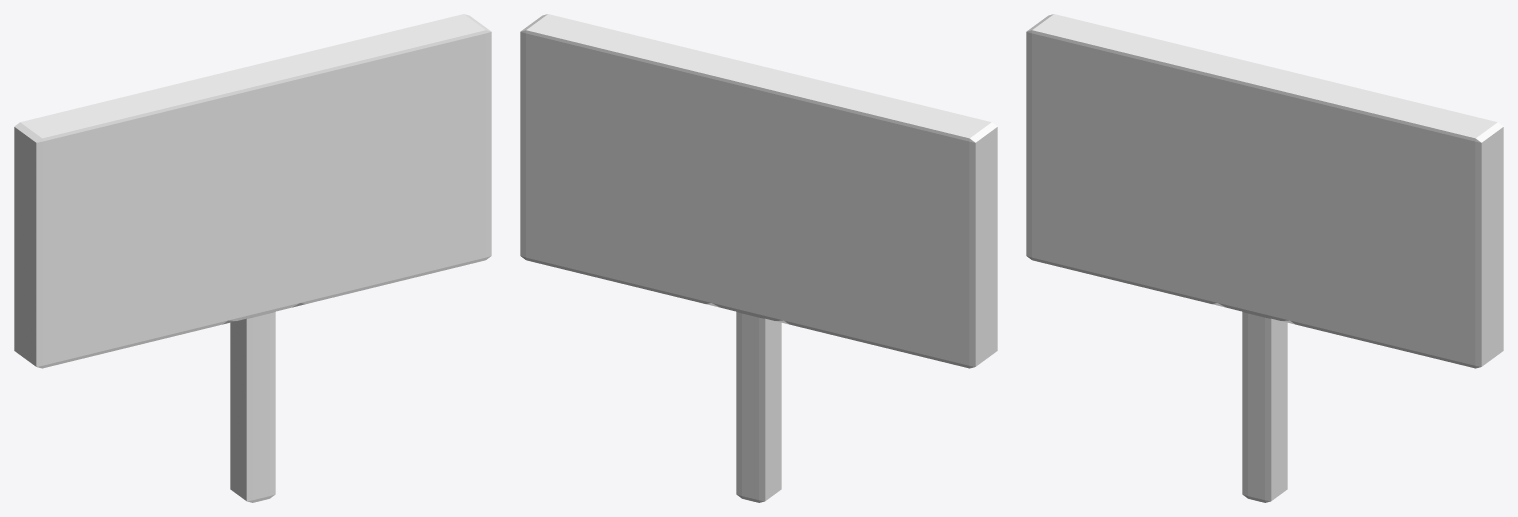
The model's file is SignBoard.obj.
The picture shows the model from 3 angles, left to right: view 1: azimuth 30°, elevation 25°; view 2: azimuth 150°, elevation 25°; view 3: azimuth 330°, elevation 25°; orthographic projection.
Visible parts, largest first — view 1: 立方体; view 2: 立方体; view 3: 立方体.
Boxes of the visible parts, bbox=[...] form: 立方体: bbox=[14, 14, 491, 502]; 立方体: bbox=[520, 14, 997, 502]; 立方体: bbox=[1026, 14, 1503, 502].
Bounding box in the file's own units: 3.18 × 2.79 × 0.2749.
